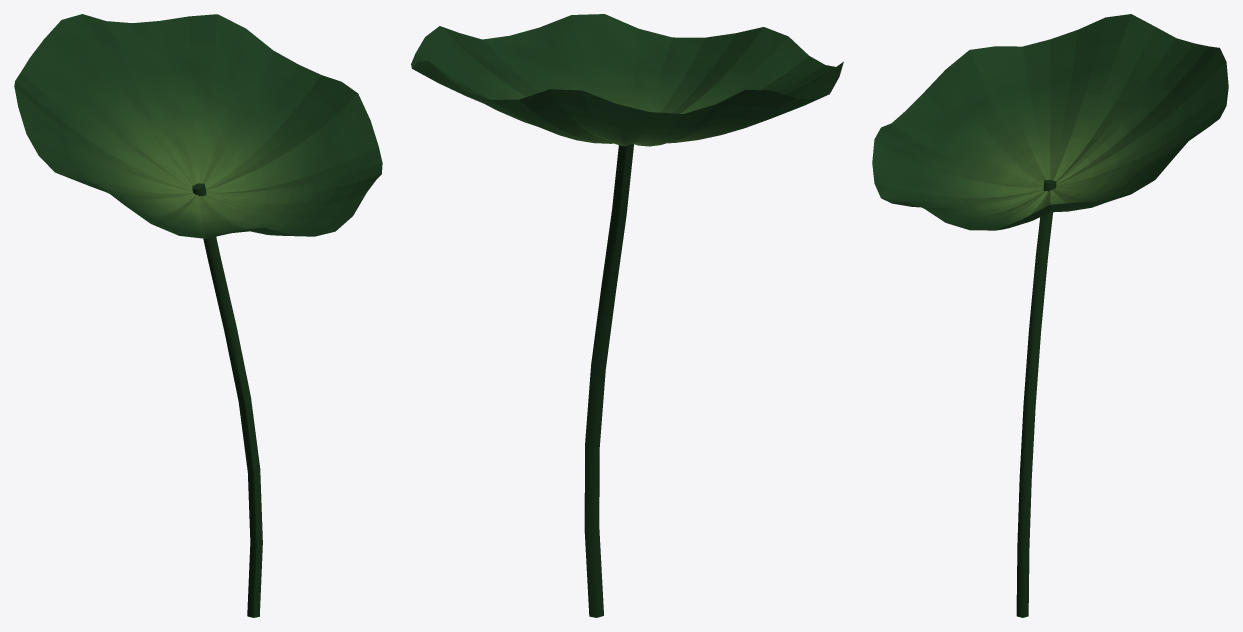
Rendered from lotus-leaf-tall.glb.
The picture shows the model from 3 angles, left to right: view 1: azimuth 30°, elevation 25°; view 2: azimuth 150°, elevation 25°; view 3: azimuth 270°, elevation 25°; orthographic projection. The views are drawn at different scales.
Parts seen in each view (by area): view 1: lotus-leaf-tall-blade, lotus-leaf-tall-stem; view 2: lotus-leaf-tall-blade, lotus-leaf-tall-stem; view 3: lotus-leaf-tall-blade, lotus-leaf-tall-stem.
Part boxes in pixels (x1,y1,x2,y2): lotus-leaf-tall-blade: (14,14,382,238); lotus-leaf-tall-stem: (192,183,262,617); lotus-leaf-tall-blade: (411,14,843,146); lotus-leaf-tall-stem: (584,144,633,617); lotus-leaf-tall-blade: (872,14,1228,230); lotus-leaf-tall-stem: (1016,179,1056,617).
Size of the model in its own units: 0.64 by 1.04 by 0.64.
